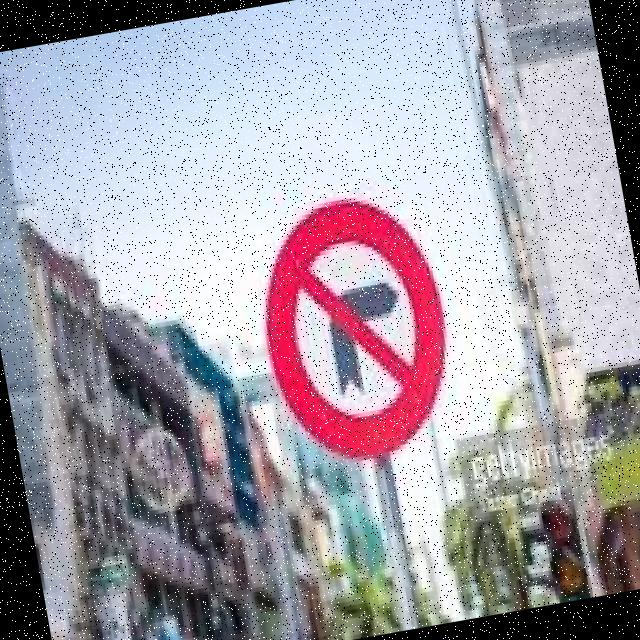do_not_turn_right: (238, 173, 472, 494)
